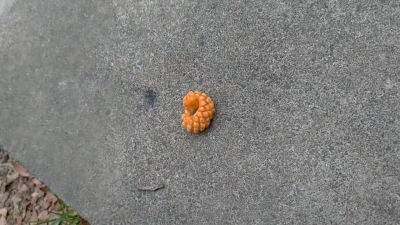eggs: (178, 88, 216, 137)
